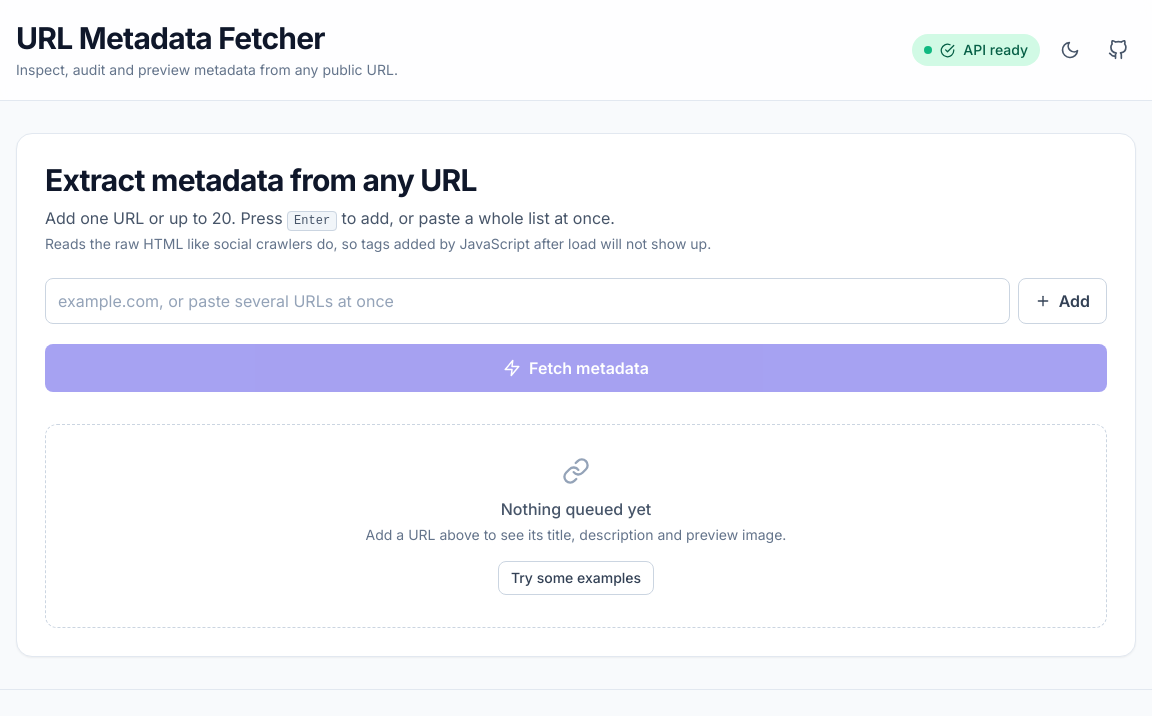
Scenario: App › submits the address still sitting in the input box
Expected: the message reads "API ready", [963,41,1028,58]
Type "solo.dev" into the field named "web address" at (527, 301), box [45,278,1010,324]
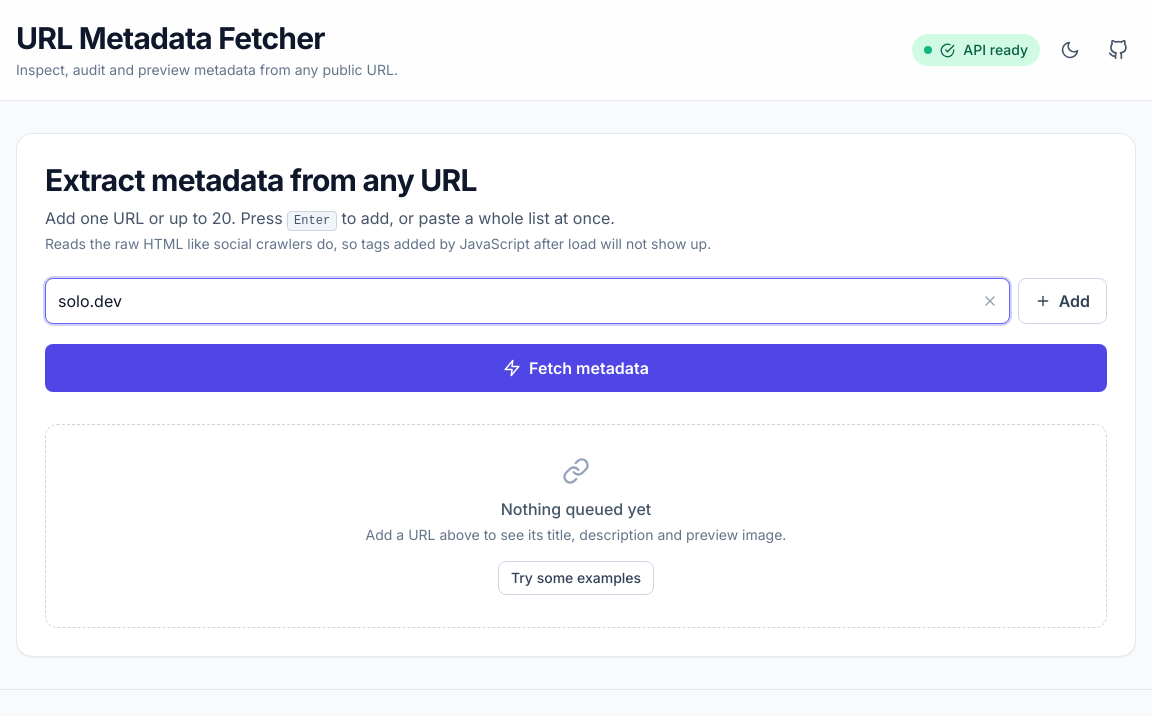
Click the button "Fetch metadata" at (576, 368), box [45,344,1107,392]
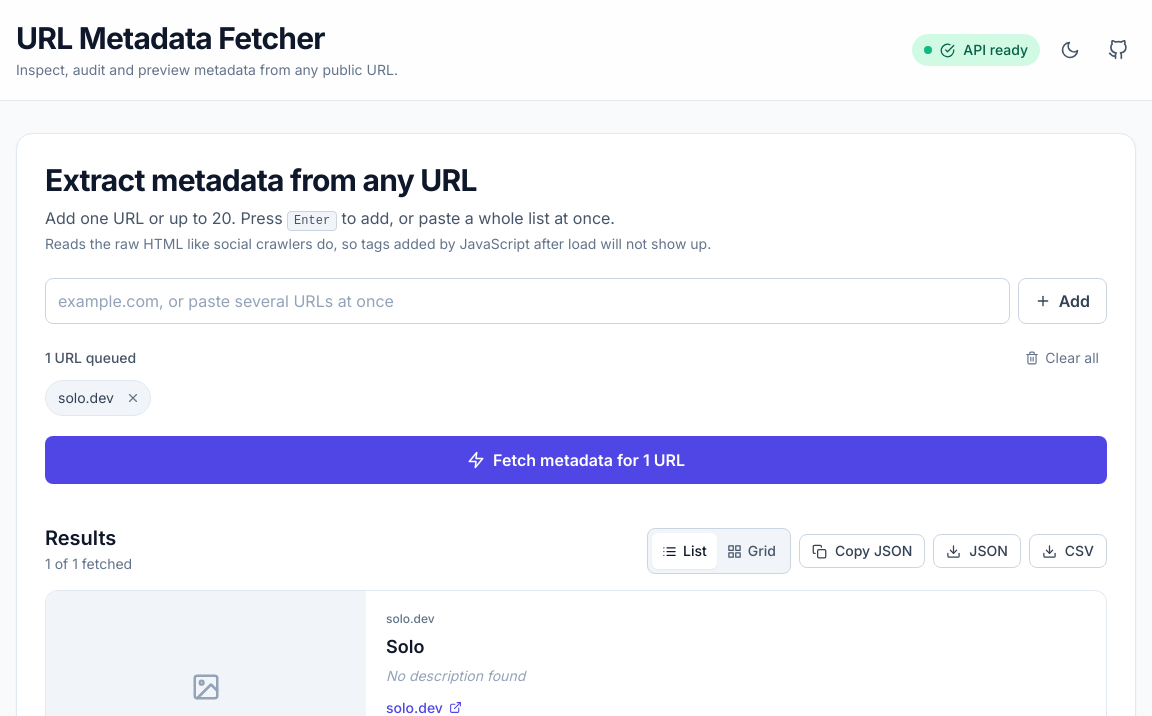
Expected: the heading "Solo" is shown, [386,636,424,657]
